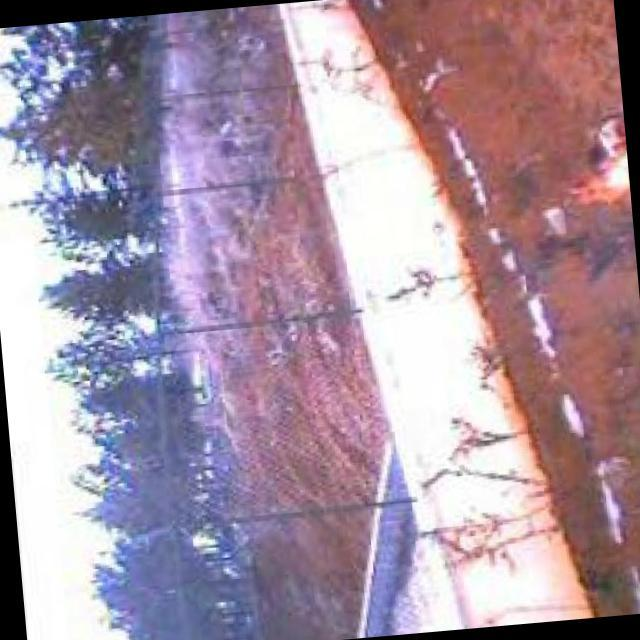Fire: (558, 115, 633, 213)
